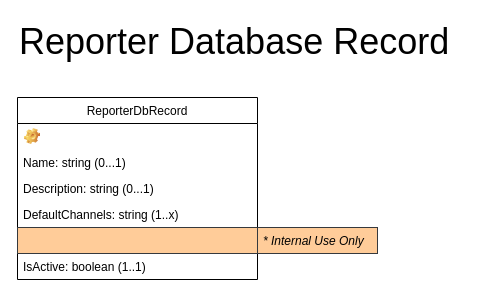
Some shapes in this 485 by 299 pixel diagram are drawn without their labels. Each missing label, with the centre of its shape:
"_id: string(1..1)" goes at pixel 137 136.
"Channels: ChannelDbRecord Dictionary" goes at pixel 137 240.
